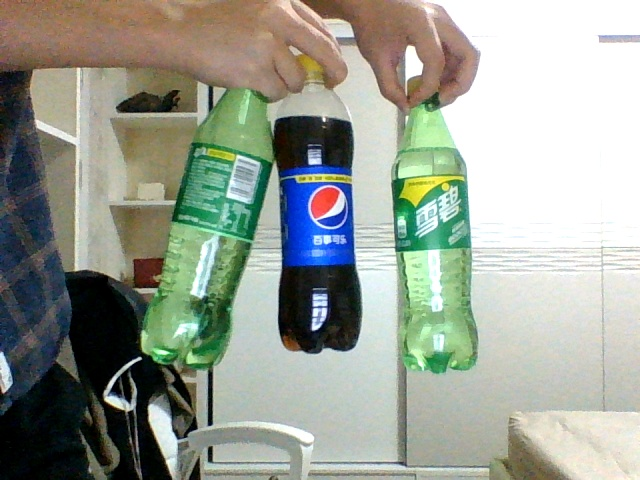Cola: (271, 54, 362, 351)
Sprite: (139, 87, 273, 368), (391, 76, 479, 371)
